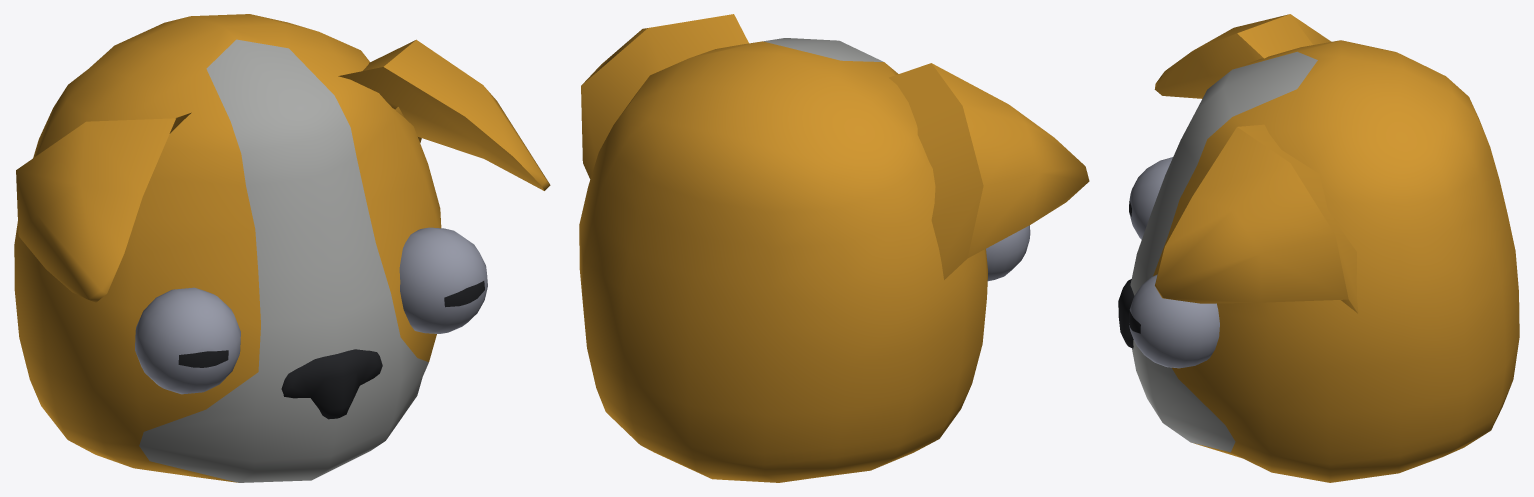
Rendered from Dog.obj.
3 renders of one model, left to right at view 1: azimuth 30°, elevation 25°; view 2: azimuth 150°, elevation 25°; view 3: azimuth 270°, elevation 25°, orthographic. The views are drawn at different scales.
Parts seen in each view (by area): view 1: Dog_Blob_Cube.015; view 2: Dog_Blob_Cube.015; view 3: Dog_Blob_Cube.015.
Part boxes in pixels (x1=…): Dog_Blob_Cube.015: x1=14, y1=14, x2=550, y2=482; Dog_Blob_Cube.015: x1=579, y1=14, x2=1089, y2=482; Dog_Blob_Cube.015: x1=1118, y1=14, x2=1519, y2=482.
Bounding box in the file's own units: 2.14 × 1.87 × 1.72.
